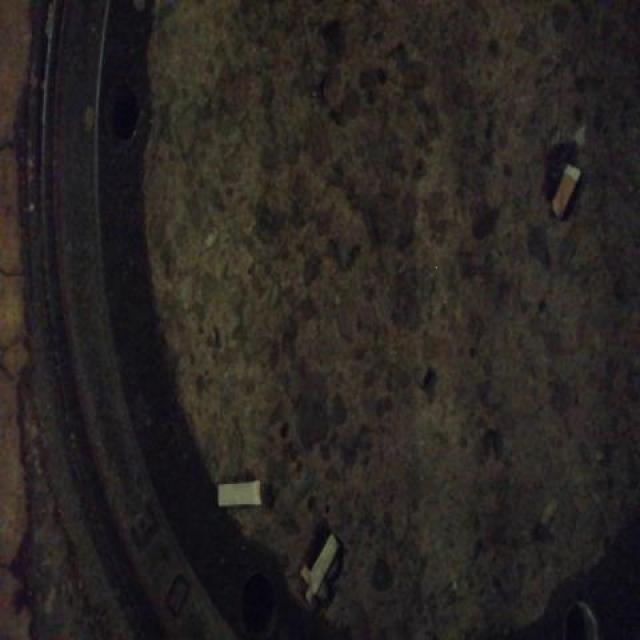non-organic waste: (307, 530, 341, 597), (548, 158, 583, 222), (217, 476, 263, 511)
